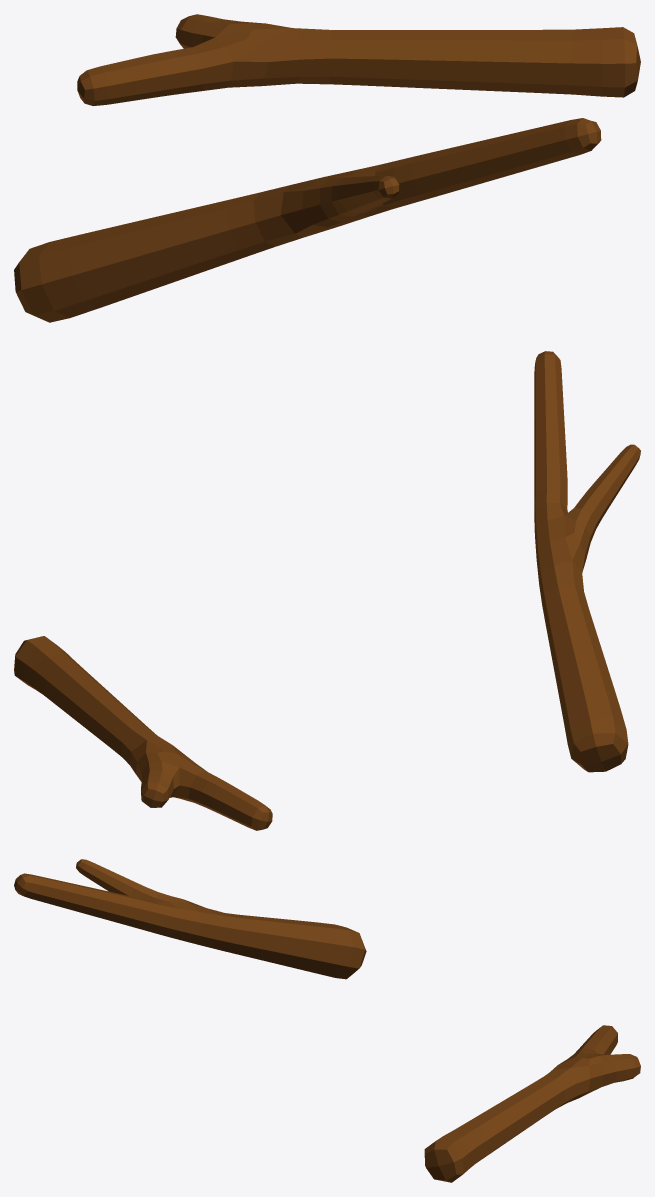
Rendered from fase1-troncos.fbx.
The picture shows the model from 3 angles, top to bottom: view 1: azimuth 30°, elevation 25°; view 2: azimuth 150°, elevation 25°; view 3: azimuth 270°, elevation 25°; orthographic projection. The views are drawn at different scales.
Parts seen in each view (by area): view 1: Plano.010, Plano.009; view 2: Plano.010, Plano.009; view 3: Plano.010, Plano.009.
Boxes of the visible parts, x1,y1,x2,y2 form: Plano.010: [14, 118, 601, 322]; Plano.009: [77, 14, 640, 105]; Plano.010: [534, 351, 640, 772]; Plano.009: [14, 636, 272, 830]; Plano.010: [14, 859, 366, 979]; Plano.009: [424, 1025, 640, 1182].
Bounding box in the file's own units: 829 × 333 × 953.
